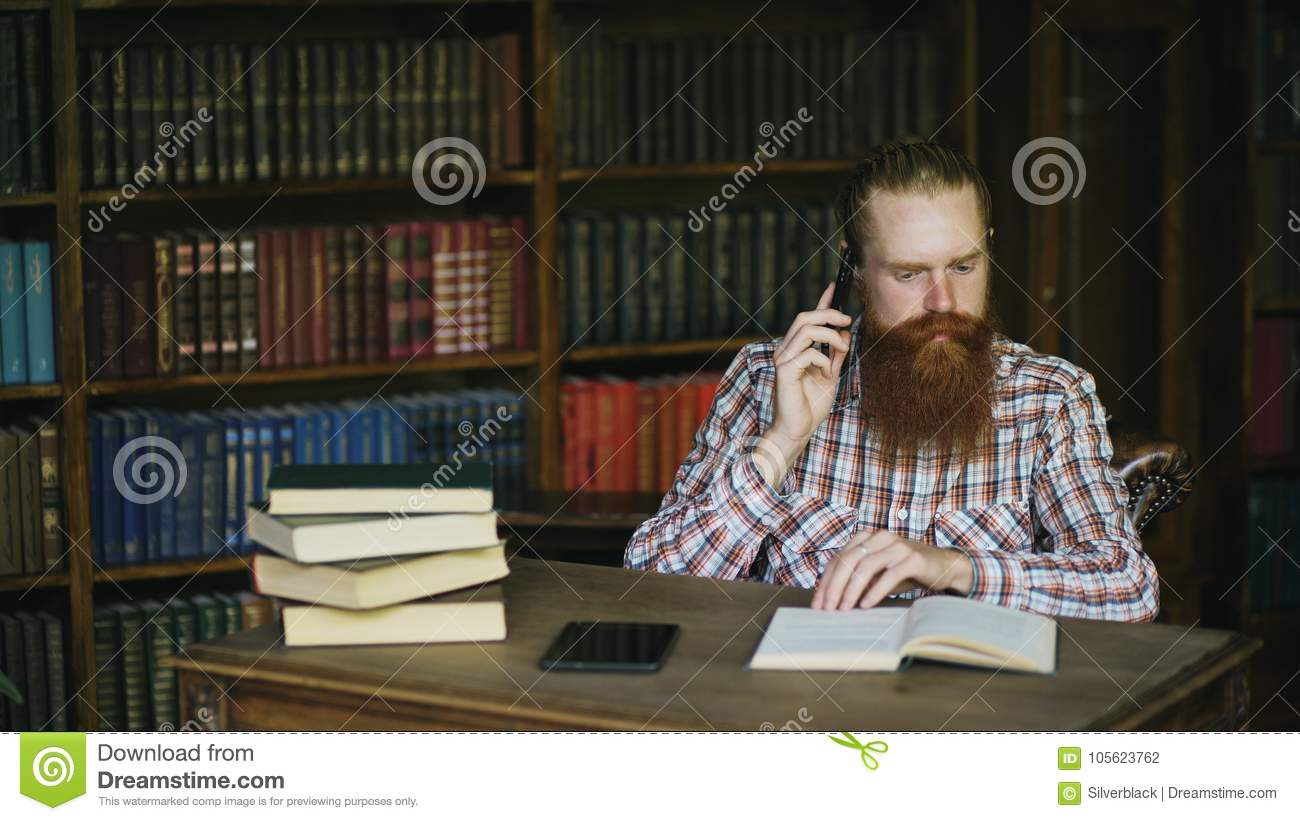phone: (818, 242, 859, 373)
talk: (776, 229, 990, 448)
